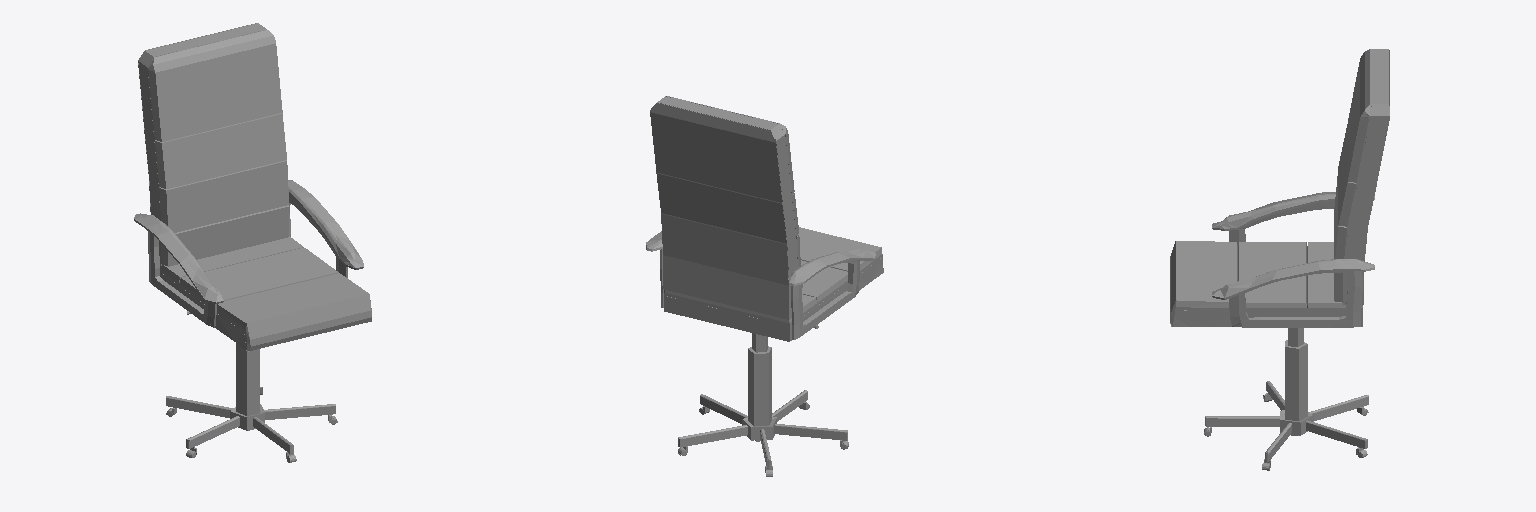
File: deskChair.obj
3 renders of one model, left to right at view 1: azimuth 30°, elevation 25°; view 2: azimuth 150°, elevation 25°; view 3: azimuth 270°, elevation 25°, orthographic.
Visible parts, largest first — view 1: chair_Cube.001; view 2: chair_Cube.001; view 3: chair_Cube.001.
Boxes of the visible parts, x1=… form: chair_Cube.001: x1=134, y1=23, x2=371, y2=462; chair_Cube.001: x1=646, y1=96, x2=883, y2=476; chair_Cube.001: x1=1170, y1=49, x2=1389, y2=470.
Bounding box in the file's own units: 1.76 × 3.82 × 2.12.